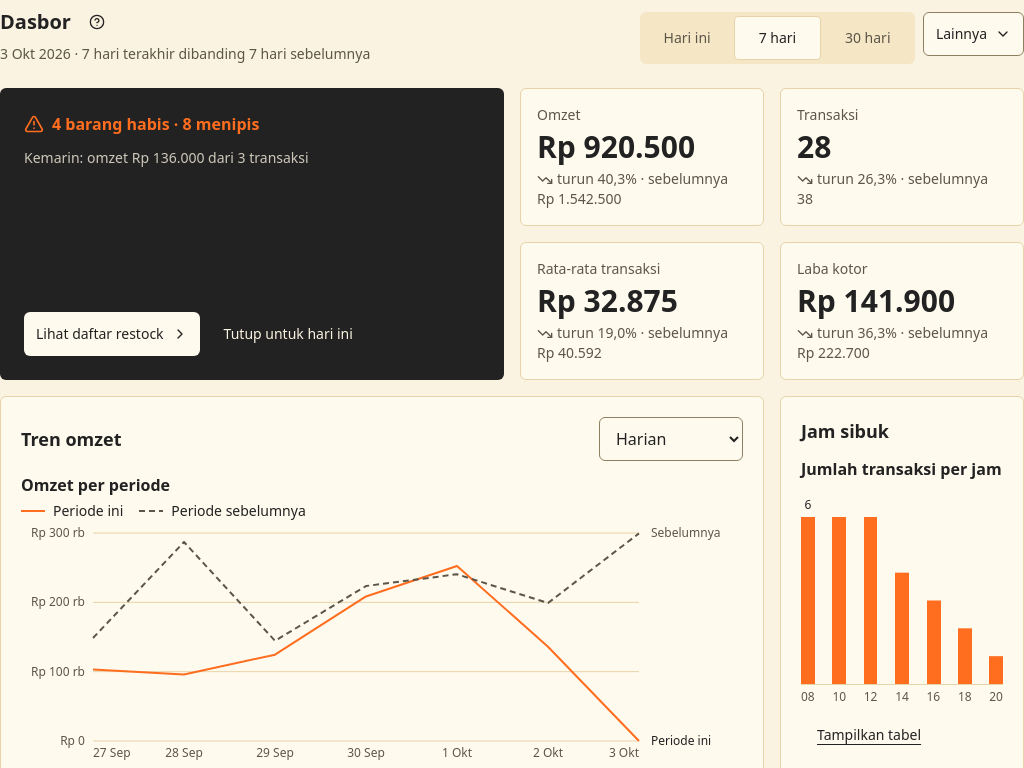
DashboardPage tata letak › "Lainnya" membuka Bulan ini, 12 bulan, dan Rentang; memilih salah satunya mengubah periode
Click the button "Lainnya". click: (973,34)
box: top-left (923, 12), bottom-right (1023, 56)
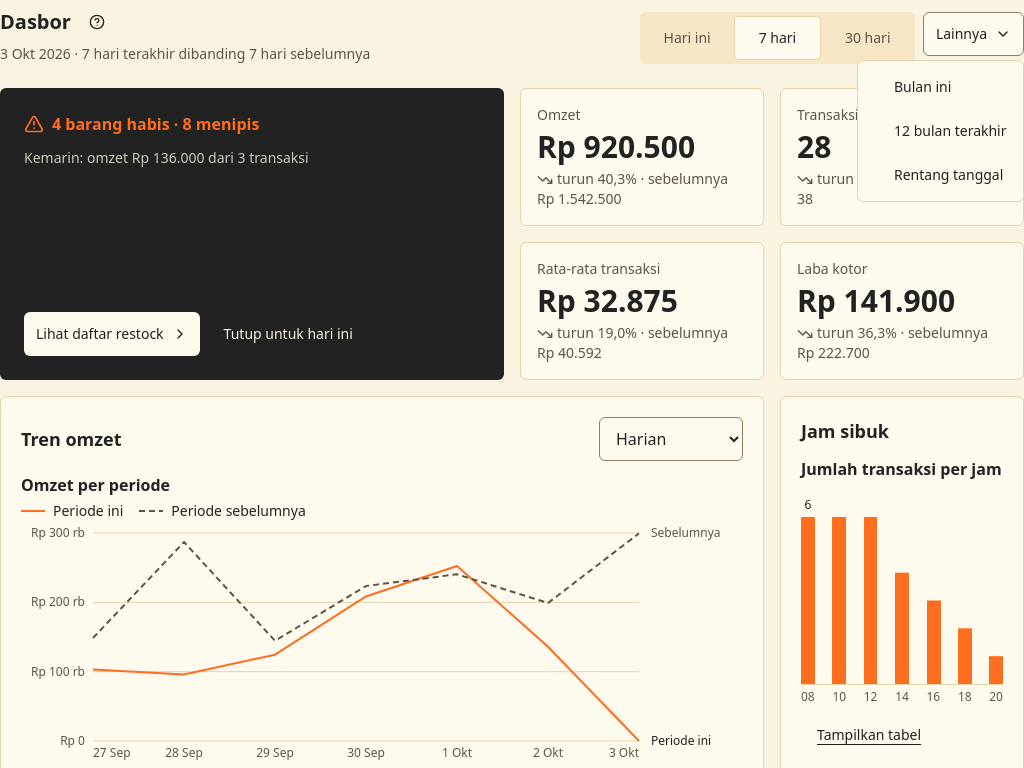
Result: the menu item "Bulan ini" is shown
Result: the menu item "12 bulan terakhir" is shown at top-left (894, 121), bottom-right (1006, 140)
Result: the menu item "Rentang tanggal" is shown at top-left (894, 165), bottom-right (1003, 184)
Click the menu item "Bulan ini". click: (923,86)
box: top-left (894, 77), bottom-right (951, 96)
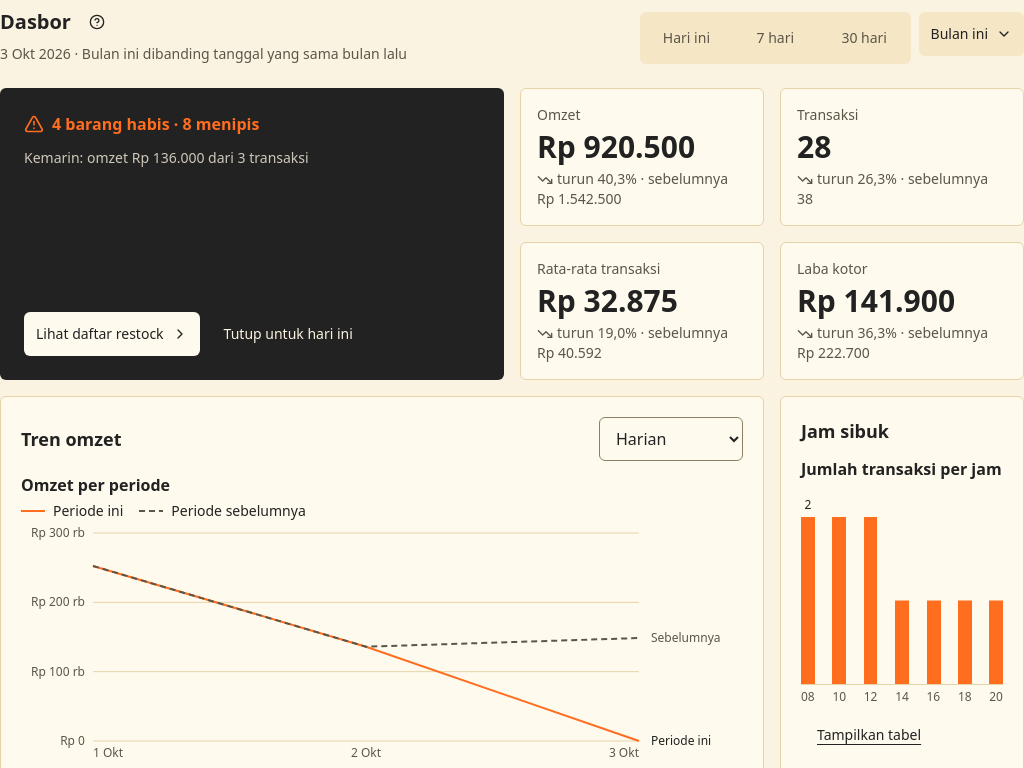
Result: the button "Bulan ini" is shown at top-left (919, 12), bottom-right (1023, 56)
